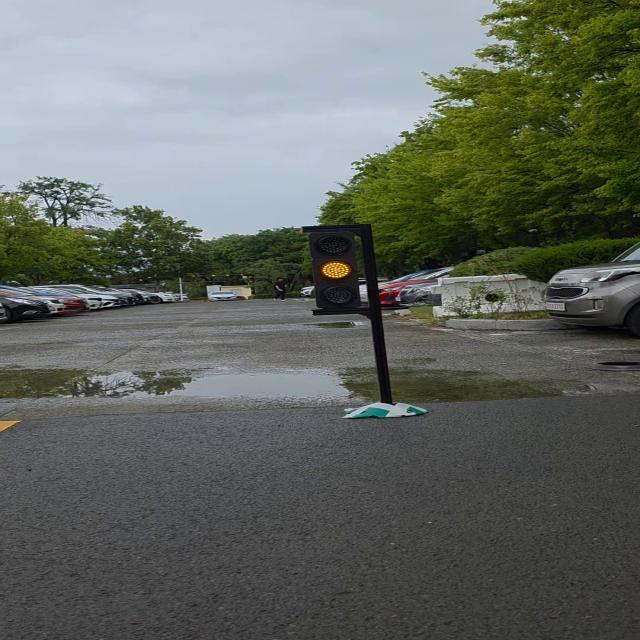yellow: (301, 222, 378, 316)
